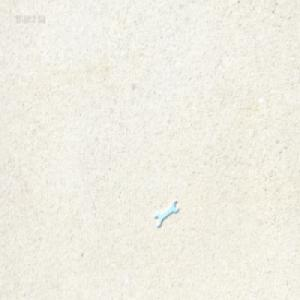Wrench: (155, 199, 179, 227)
